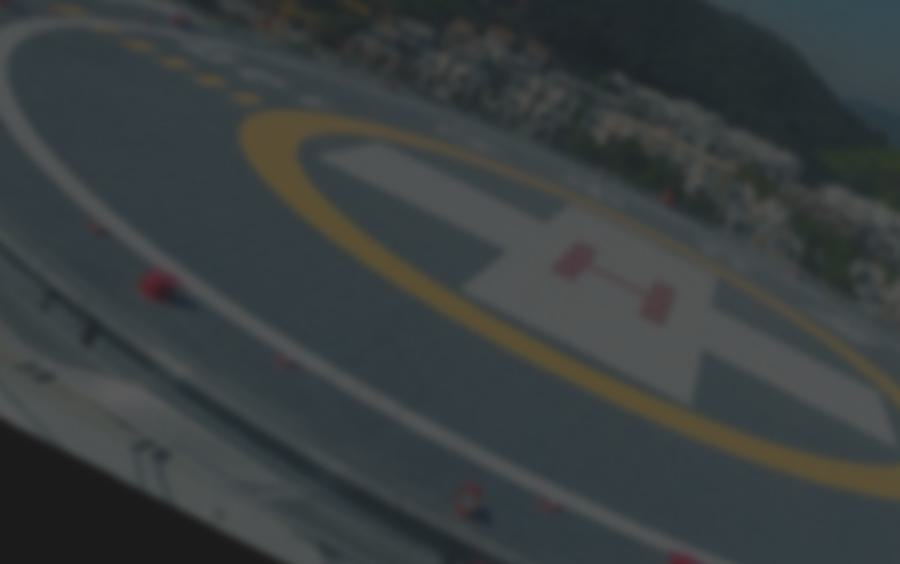Apron: (231, 86, 900, 505)
